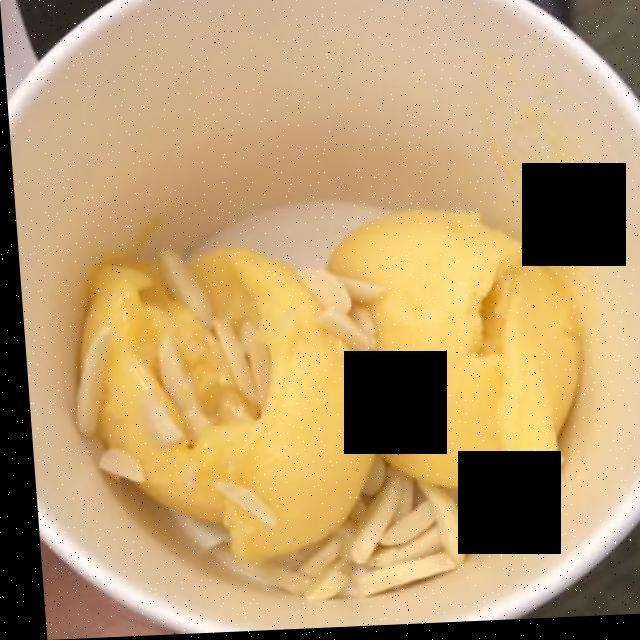sorbet: (81, 207, 590, 579)
